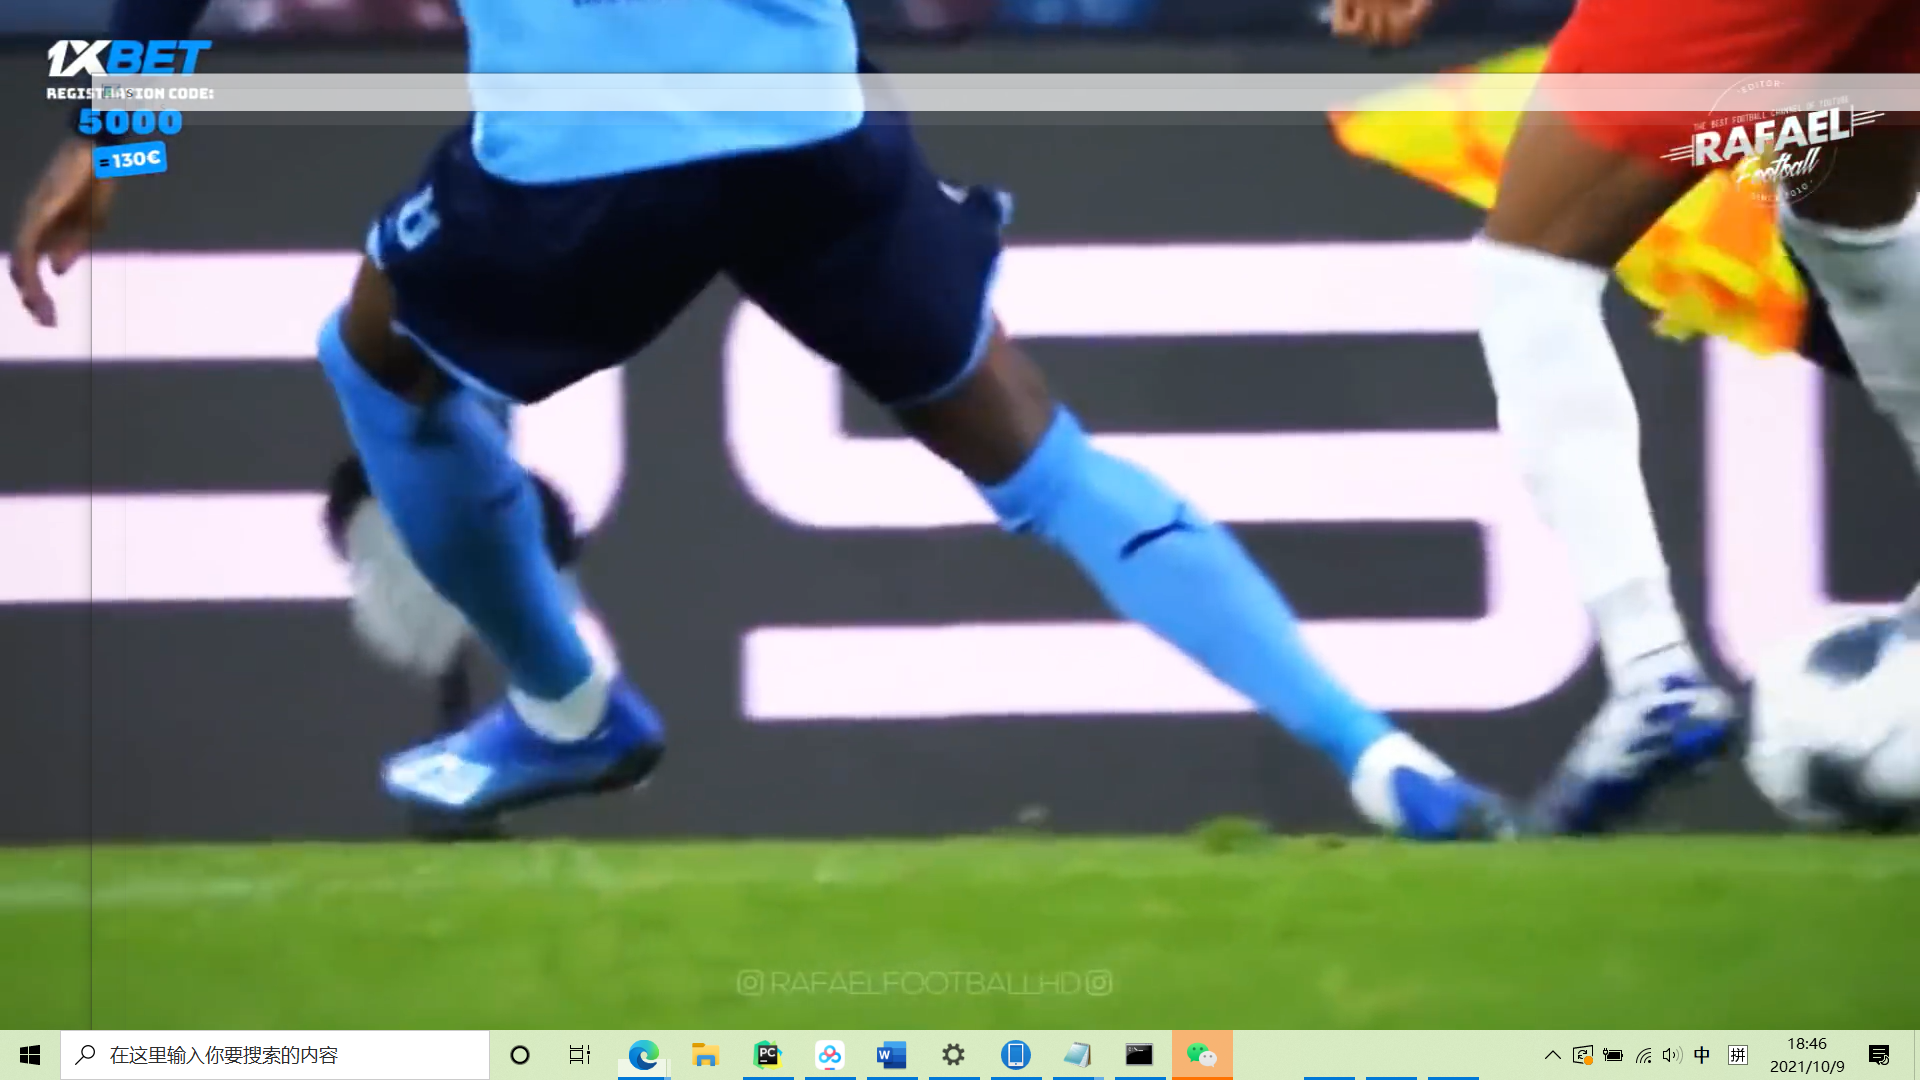ft: (1745, 585, 1917, 833)
